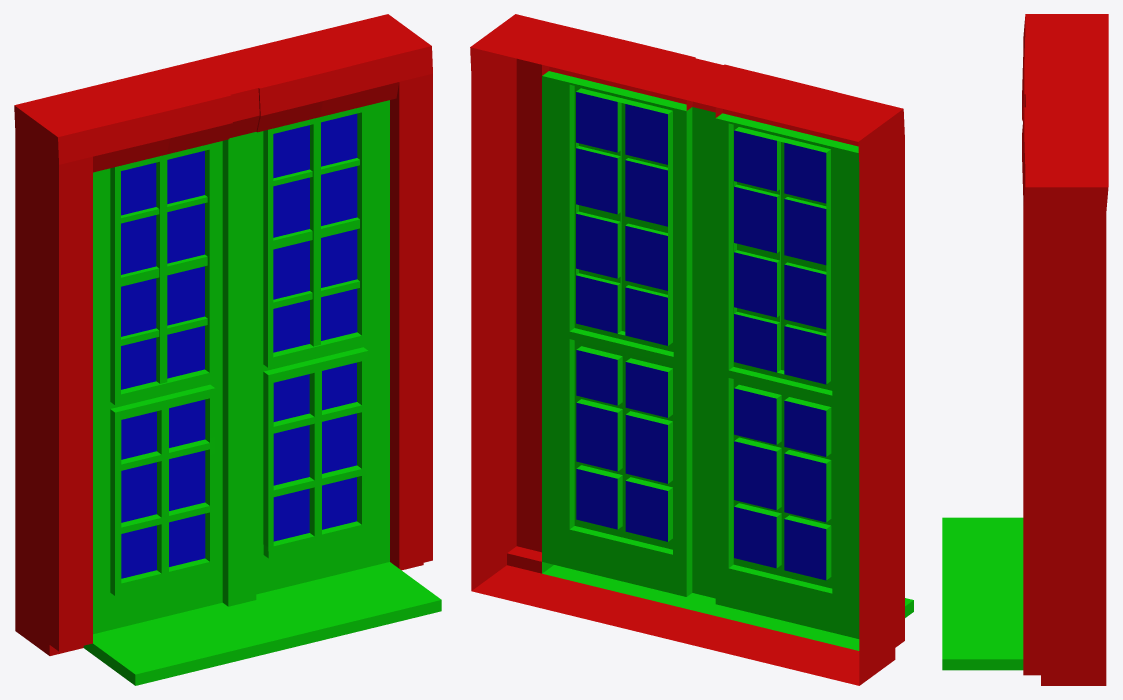
File: DoubleBalconyDoor_Nice.fbx
3 views of the same model, side by side, from view 1: azimuth 30°, elevation 25°; view 2: azimuth 150°, elevation 25°; view 3: azimuth 270°, elevation 25° (orthographic). The views are drawn at different scales.
Visible parts, largest first — view 1: DoubleBalconyDoor; view 2: DoubleBalconyDoor; view 3: DoubleBalconyDoor.
Part boxes in pixels (<box>): DoubleBalconyDoor: <box>14,14,441,685</box>; DoubleBalconyDoor: <box>470,14,913,685</box>; DoubleBalconyDoor: <box>942,14,1108,685</box>.
Bounding box in the file's own units: 157 × 210 × 63.51.
